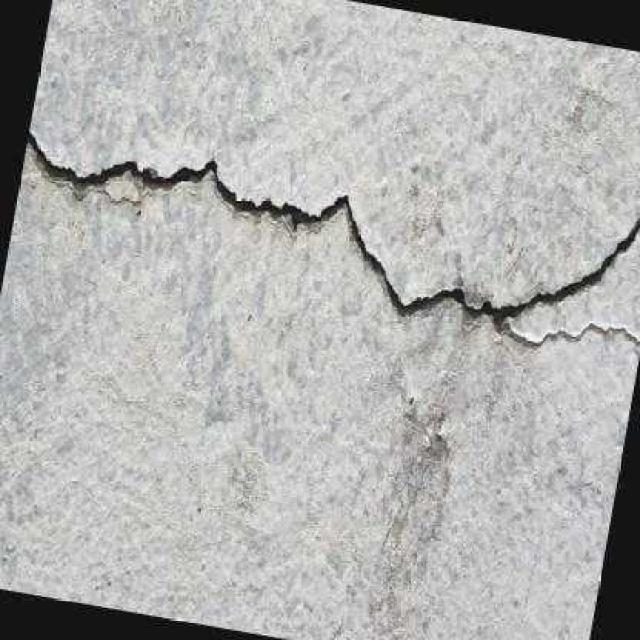D00: (27, 130, 640, 325), (503, 321, 640, 344)
